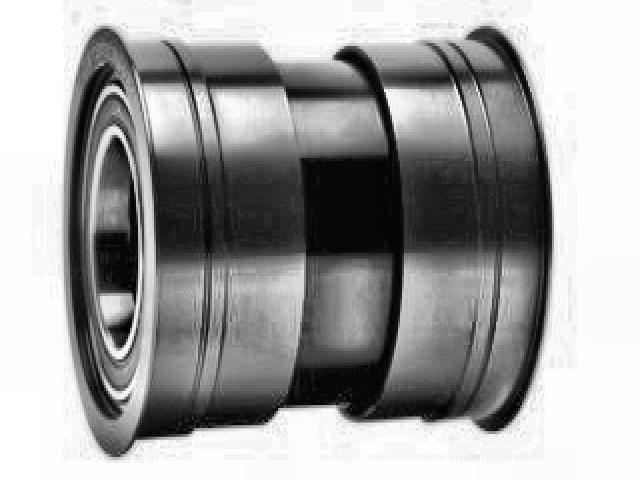bottom_bracket: (59, 21, 556, 456)
